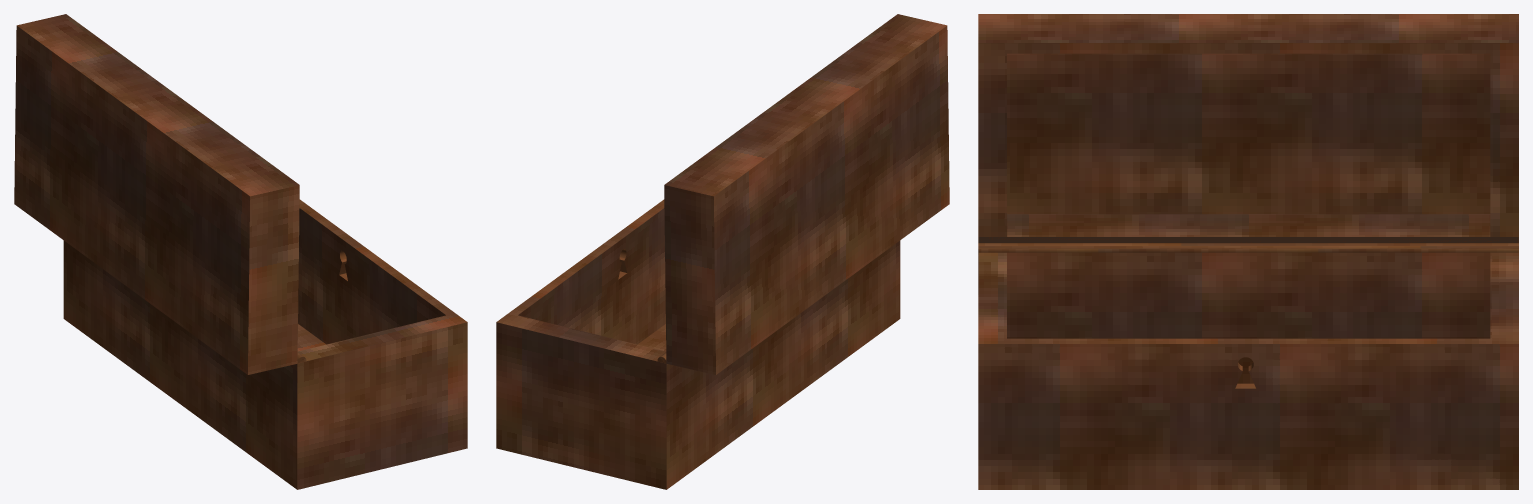
3 views of the same model, side by side, from view 1: azimuth 30°, elevation 25°; view 2: azimuth 150°, elevation 25°; view 3: azimuth 270°, elevation 25° (orthographic). The views are drawn at different scales.
Visible parts, largest first — view 1: boxTop, box; view 2: boxTop, box; view 3: box, boxTop.
Part boxes in pixels (x1=…): boxTop: x1=14, y1=14, x2=299, y2=374; box: x1=63, y1=199, x2=467, y2=489; boxTop: x1=664, y1=14, x2=949, y2=374; box: x1=496, y1=199, x2=900, y2=489; box: x1=978, y1=243, x2=1518, y2=489; boxTop: x1=978, y1=14, x2=1518, y2=242.
Size of the model in its own units: 0.9384 by 1.24 by 1.73.
1 material, 1 textured.
